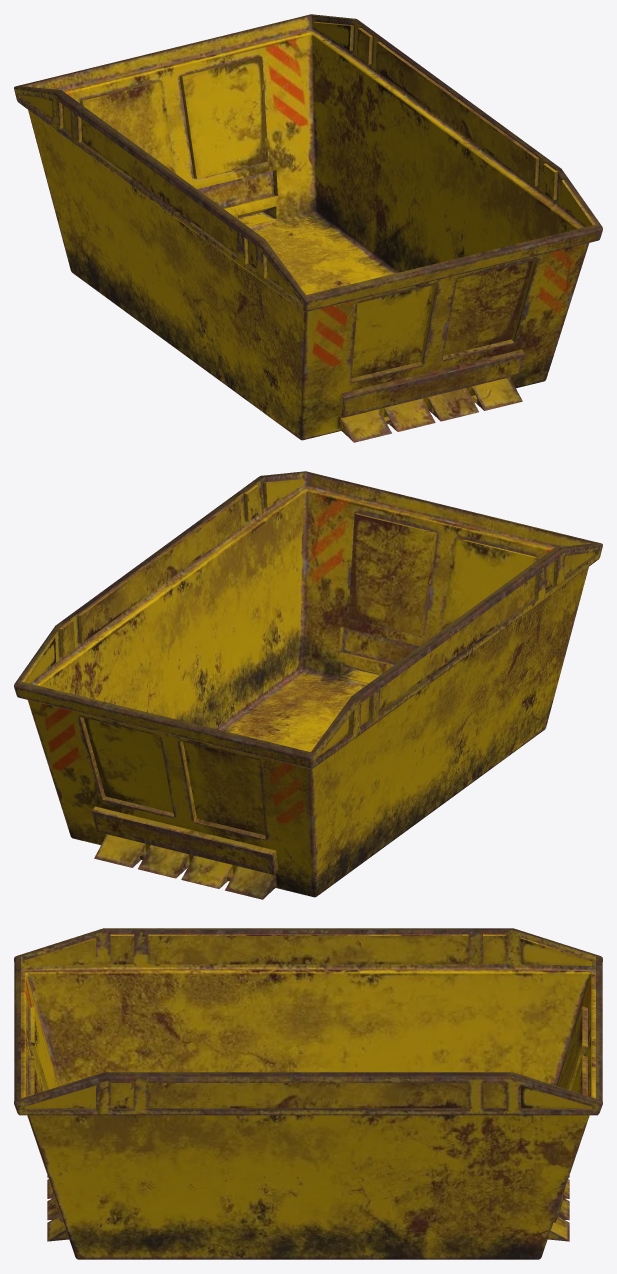
Rendered from sf-skip.glb.
3 views of the same model, one above another, from view 1: azimuth 30°, elevation 25°; view 2: azimuth 150°, elevation 25°; view 3: azimuth 270°, elevation 25° (orthographic).
Visible parts, largest first — view 1: Cube.001; view 2: Cube.001; view 3: Cube.001.
Part boxes in pixels (x1,y1,x2,y2): Cube.001: [14, 14, 602, 442]; Cube.001: [14, 471, 602, 899]; Cube.001: [14, 928, 602, 1259].
Bounding box in the file's own units: 406 × 253 × 679.
1 material, 1 textured.
